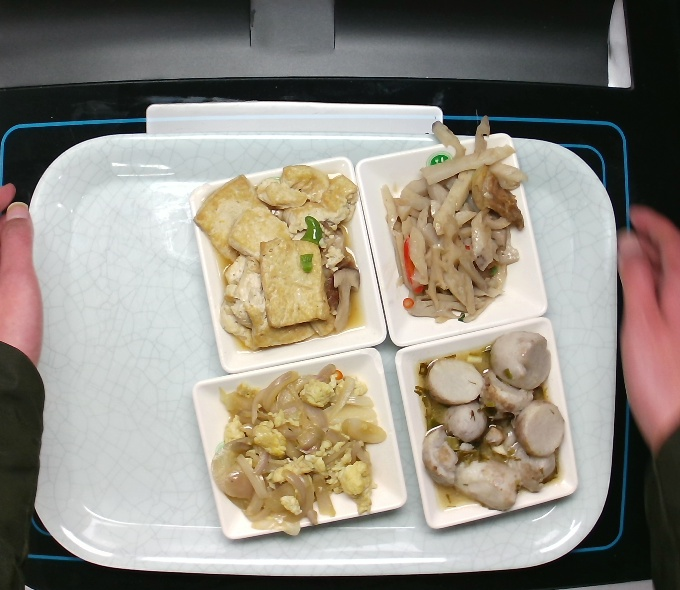wcq-JiaChangDouFu: (193, 168, 366, 349)
wcq-QingChaoOuPian: (380, 118, 527, 323)
wcq-YangCongChaoDan: (202, 366, 394, 537)
wcq-YangYu: (419, 328, 569, 518)
